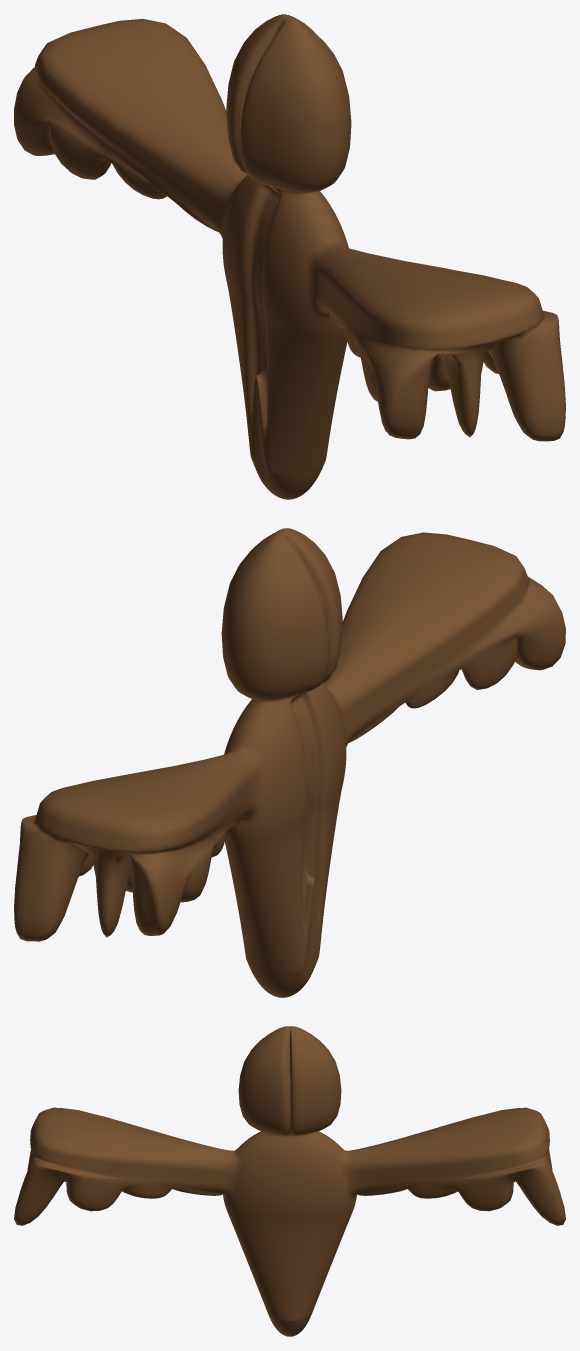
Rendered from Bronze Amulet.fbx.
3 views of the same model, one above another, from view 1: azimuth 30°, elevation 25°; view 2: azimuth 150°, elevation 25°; view 3: azimuth 270°, elevation 25° (orthographic). The views are drawn at different scales.
Parts seen in each view (by area): view 1: pSphere1; view 2: pSphere1; view 3: pSphere1.
Part boxes in pixels (x1,y1,x2,y2): pSphere1: (14, 14, 565, 499); pSphere1: (14, 528, 565, 997); pSphere1: (14, 1026, 565, 1336).
Bounding box in the file's own units: 1.96 × 4.96 × 8.04.
Materials: 1 (1 with a texture image).
